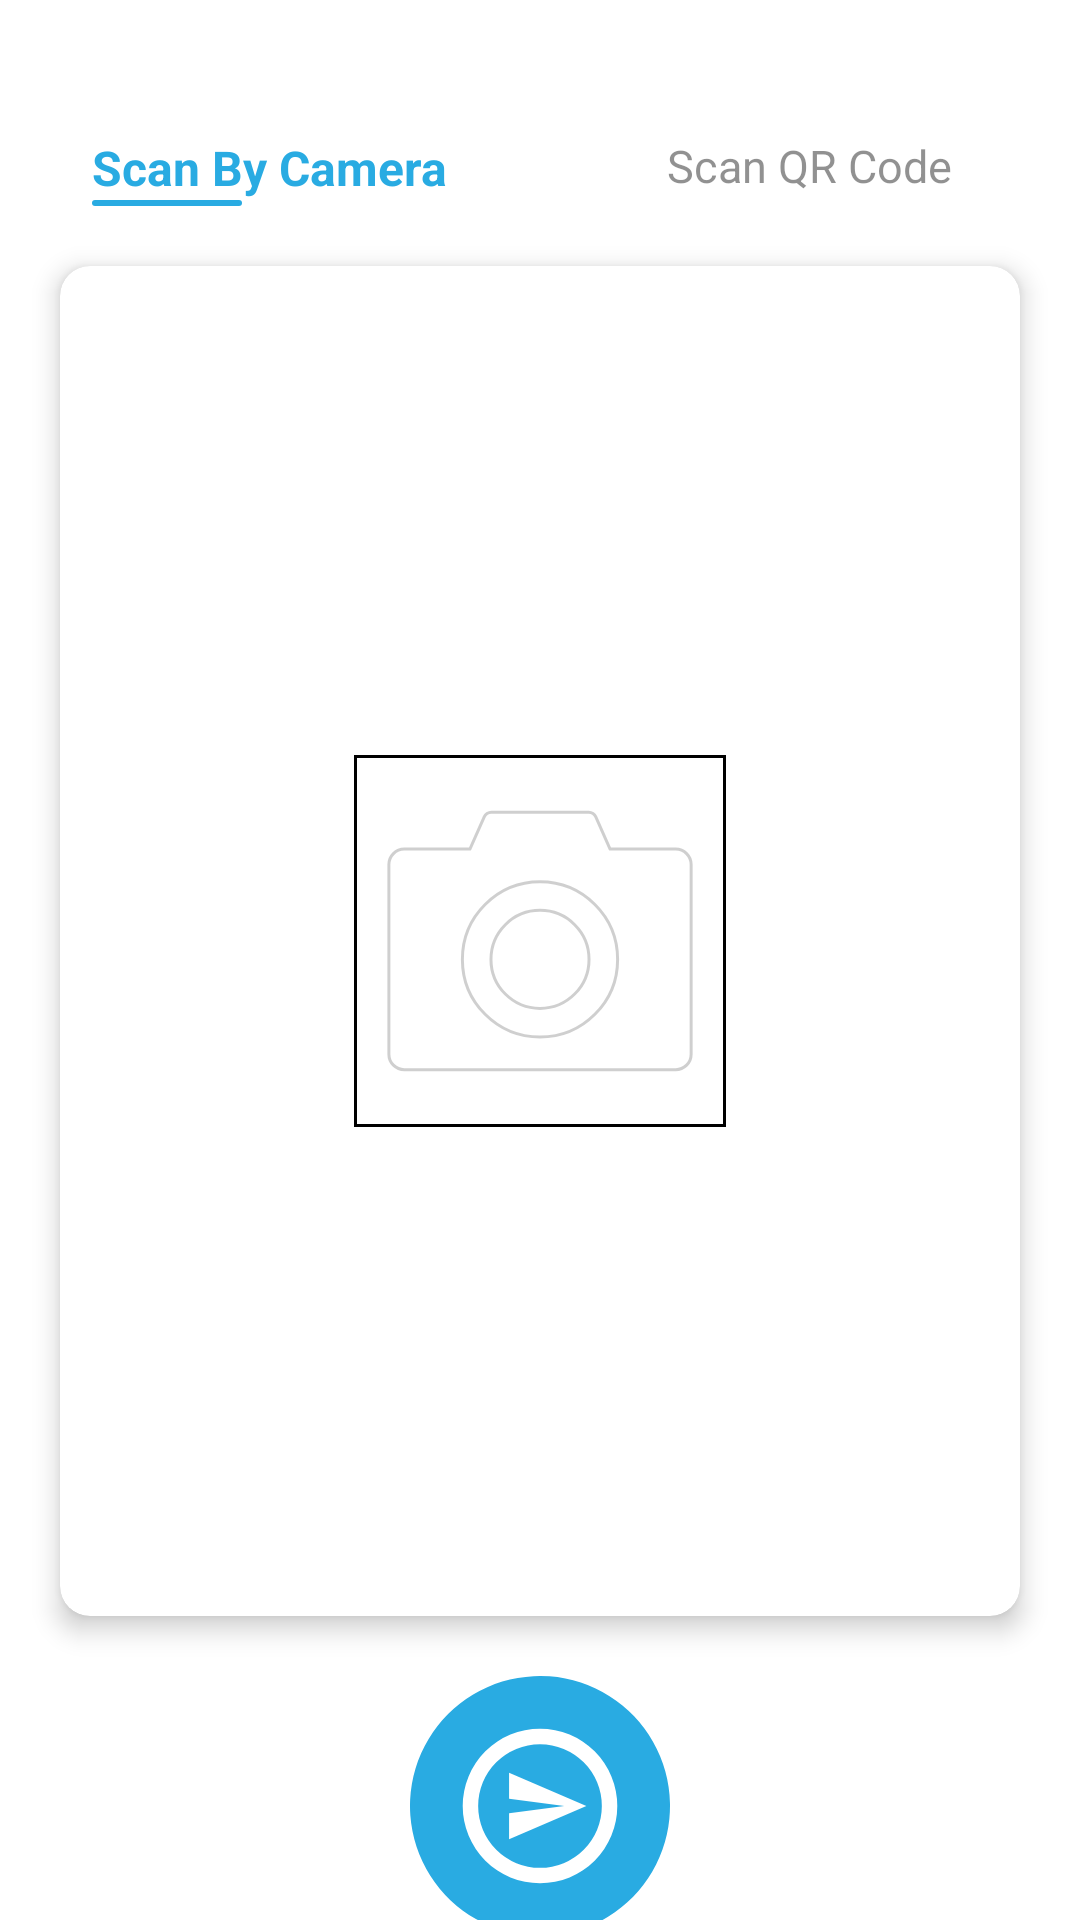

Screen size 1080 x 1920. Icon name, then its center in pixels as [x,y]:
send action: [540,1798]
